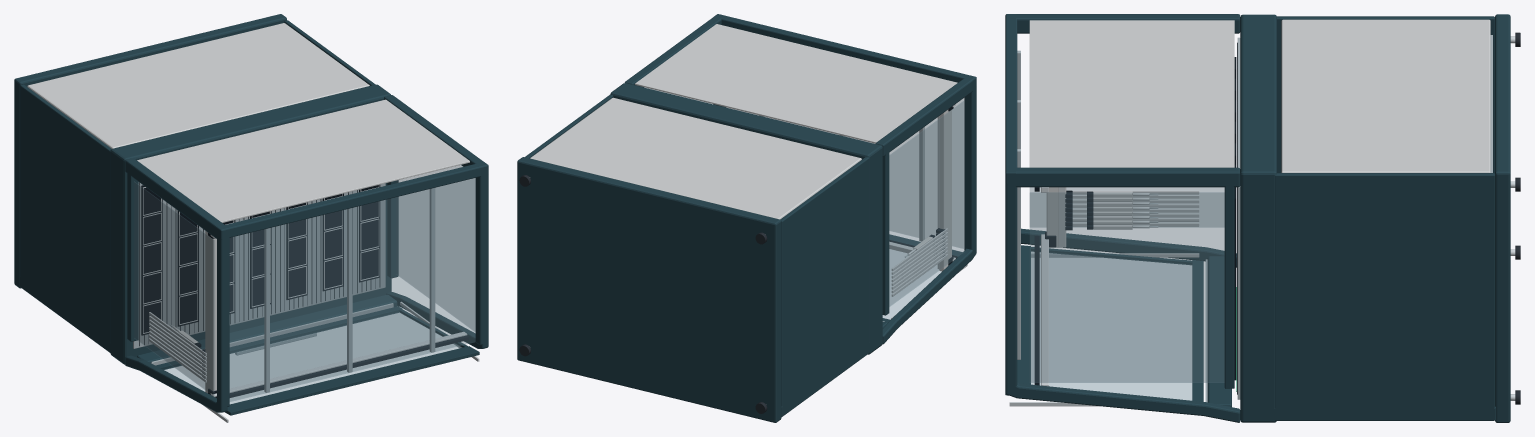
Rendered from hamilton_vantage_13.glb.
The picture shows the model from 3 angles, left to right: view 1: azimuth 30°, elevation 25°; view 2: azimuth 150°, elevation 25°; view 3: azimuth 270°, elevation 25°; orthographic projection. The views are drawn at different scales.
Parts seen in each view (by area): view 1: Cabinet front pillar, Glazed roof, Cabinet rear service enclosure, Channel 01 Y bearing, Cabinet interior floor, Foot stem; view 2: Cabinet front pillar, Cabinet rear service enclosure, Glazed roof, Foot stem, Cabinet interior floor, Levelling foot; view 3: Cabinet front pillar, Cabinet rear service enclosure, Glazed roof, Foot stem, Cabinet interior floor, Channel 01 Y bearing.
Boxes of the visible parts, x1,y1,x2,y2 form: Cabinet front pillar: [14, 14, 488, 415]; Glazed roof: [134, 165, 475, 403]; Cabinet rear service enclosure: [27, 23, 469, 393]; Channel 01 Y bearing: [139, 182, 468, 397]; Cabinet interior floor: [133, 182, 435, 392]; Foot stem: [143, 185, 479, 422]; Cabinet front pillar: [517, 14, 976, 422]; Cabinet rear service enclosure: [530, 24, 957, 271]; Glazed roof: [645, 87, 964, 319]; Foot stem: [889, 104, 967, 318]; Cabinet interior floor: [759, 115, 924, 321]; Levelling foot: [519, 175, 767, 413]; Cabinet front pillar: [1005, 14, 1510, 422]; Cabinet rear service enclosure: [1029, 19, 1490, 247]; Glazed roof: [1029, 187, 1224, 400]; Foot stem: [1009, 36, 1515, 406]; Cabinet interior floor: [1017, 35, 1492, 402]; Channel 01 Y bearing: [1034, 42, 1237, 394].
Size of the model in its own units: 1.33 by 0.98 by 1.82.
